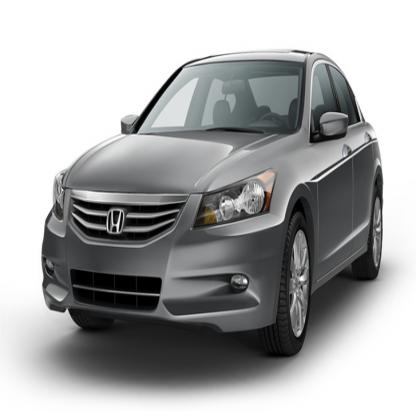Vehicle: (42, 50, 384, 356)
